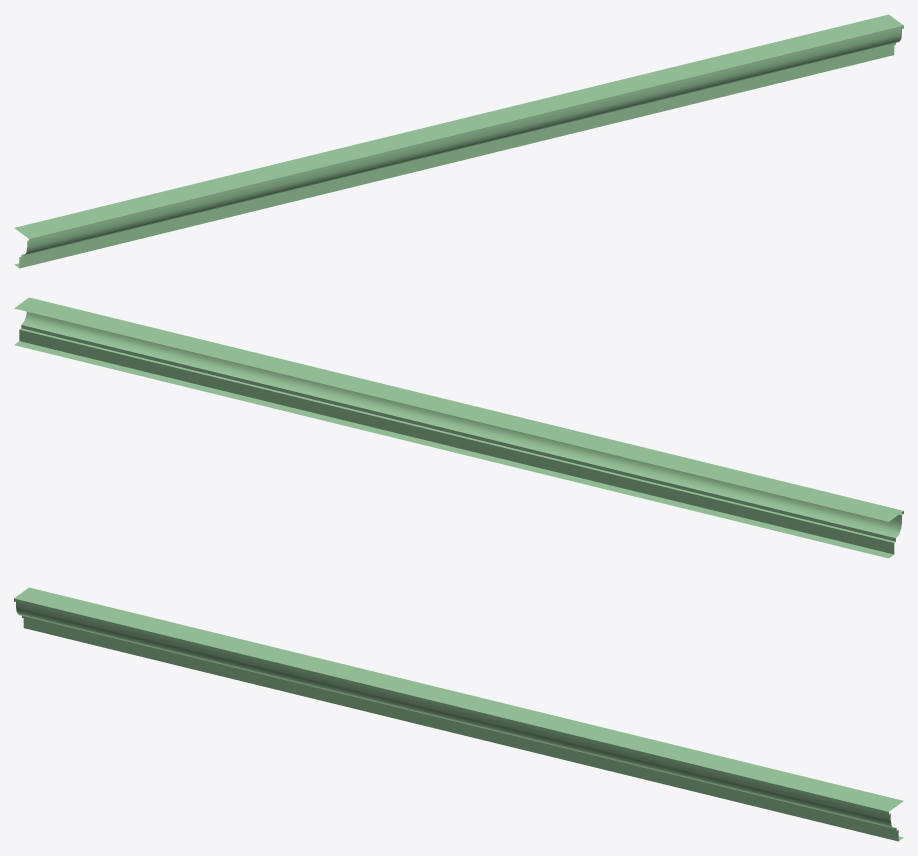
Rendered from SM_Modular_Trim_1.fbx.
The picture shows the model from 3 angles, top to bottom: view 1: azimuth 30°, elevation 25°; view 2: azimuth 150°, elevation 25°; view 3: azimuth 330°, elevation 25°; orthographic projection.
Visible parts, largest first — view 1: Trim.001; view 2: Trim.001; view 3: Trim.001.
Boxes of the visible parts, x1,y1,x2,y2 form: Trim.001: [14, 14, 903, 268]; Trim.001: [14, 297, 903, 558]; Trim.001: [14, 587, 903, 841].
Size of the model in its own units: 500 by 20 by 14.97.
